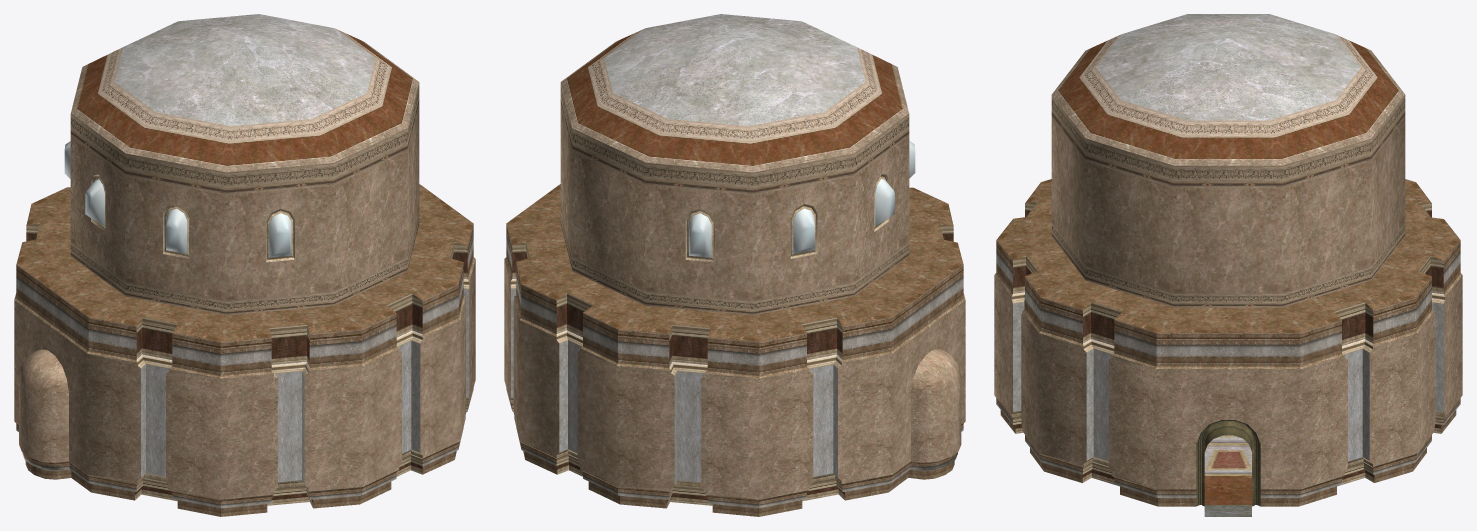
The model's file is thm_nboo_thed_theed_palace_r26_mesh_r26.fbx.
3 renders of one model, left to right at view 1: azimuth 30°, elevation 25°; view 2: azimuth 150°, elevation 25°; view 3: azimuth 270°, elevation 25°, orthographic.
Visible parts, largest first — view 1: mesh_node; view 2: mesh_node; view 3: mesh_node.
Boxes of the visible parts, box(x1,y1,x2,y2) form: mesh_node: box(14, 14, 475, 516); mesh_node: box(504, 14, 965, 516); mesh_node: box(994, 14, 1462, 516).
Bounding box in the file's own units: 25.53 × 21.51 × 24.23.
